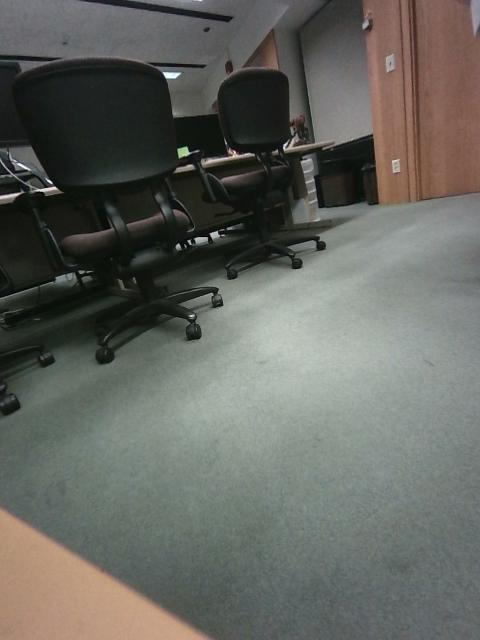block: (203, 278, 241, 303)
